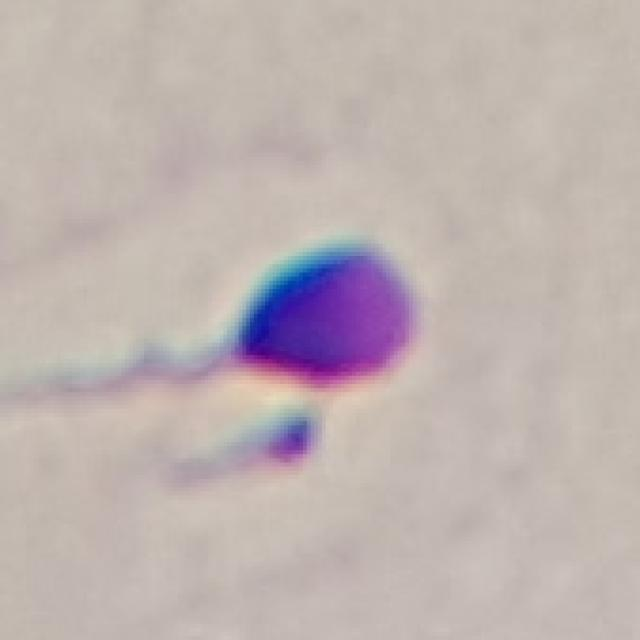normal sperm: (128, 216, 427, 416)
